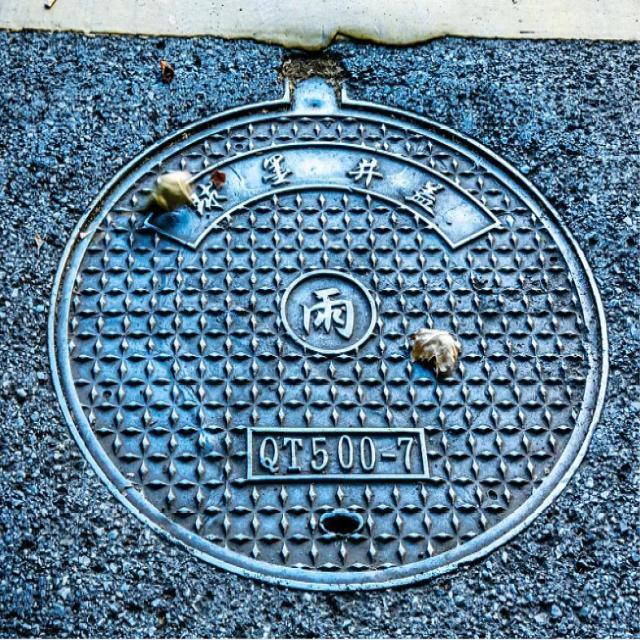manhole: (50, 78, 608, 589)
